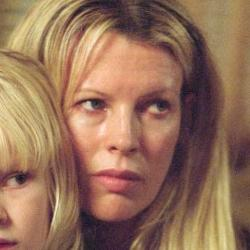face: (23, 4, 204, 221), (2, 36, 82, 250)
